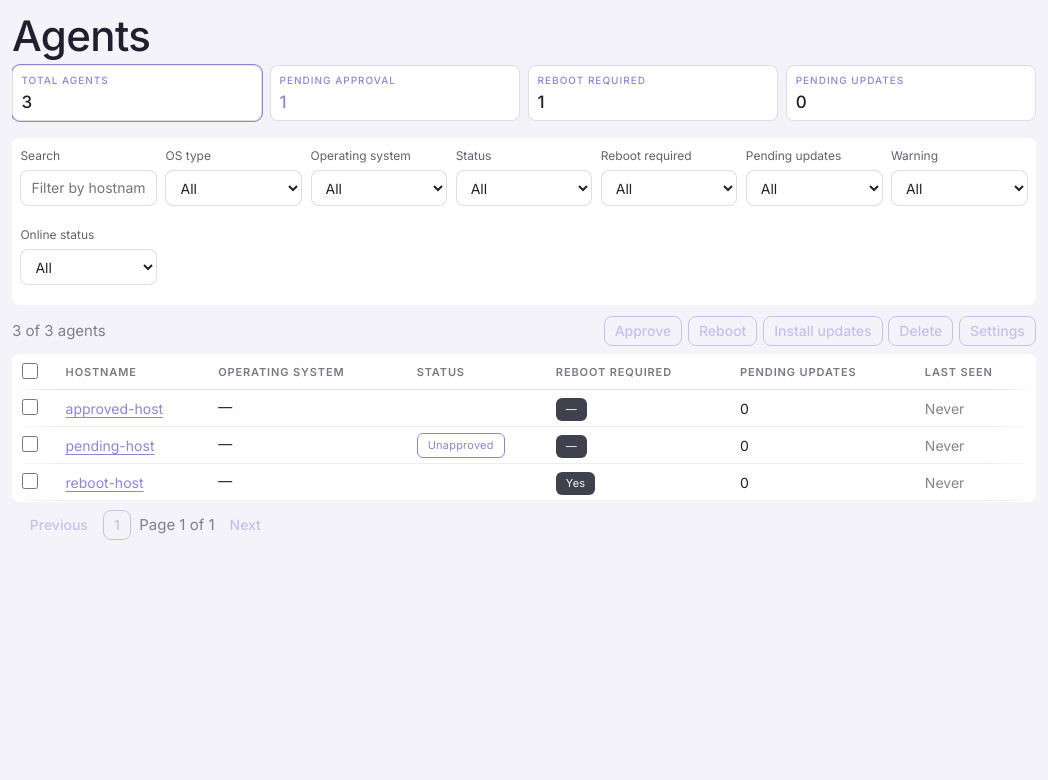
Test case: AgentsListPage › shows fleet-wide stat cards and toggles a filter when one is clicked
The width and height of the screenshot is (1048, 780).
Expected: the link "approved-host" is shown, [66,400,163,417]
Expected: the text "3" is shown, [21,92,32,112]
Click the button "Pending approval 1": (395, 93) [270,65,520,121]
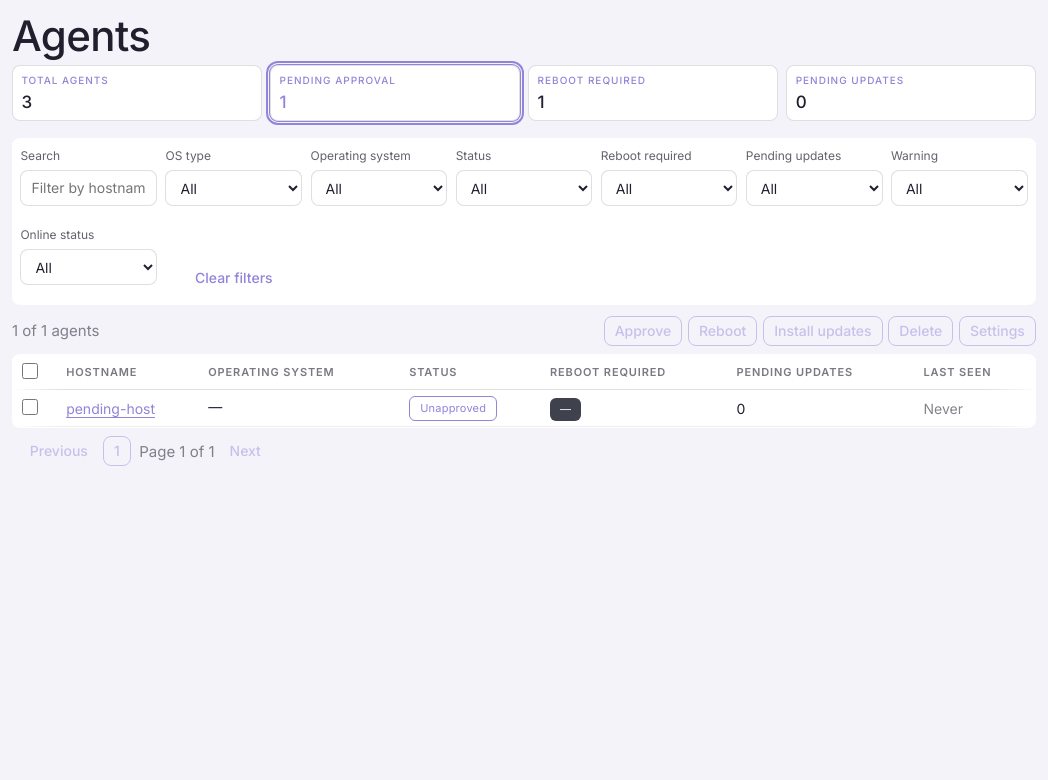
Expected: the link "pending-host" is shown, [66,400,155,417]
Now the link "approved-host" is gone
